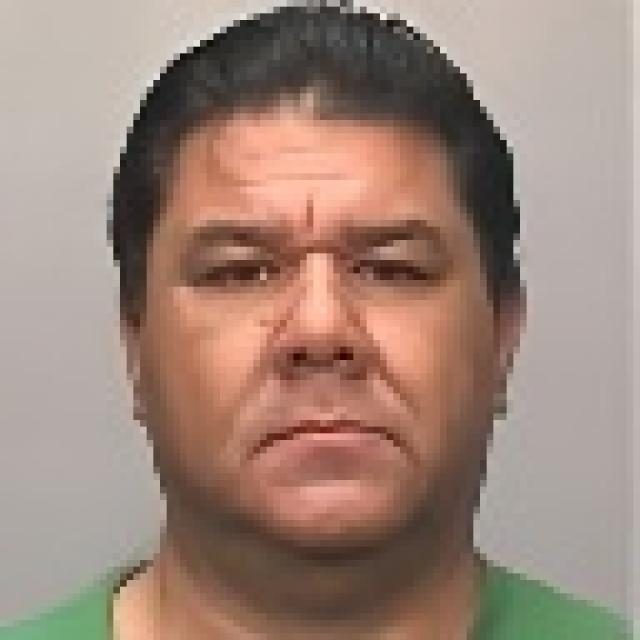angry: (117, 46, 507, 602)
